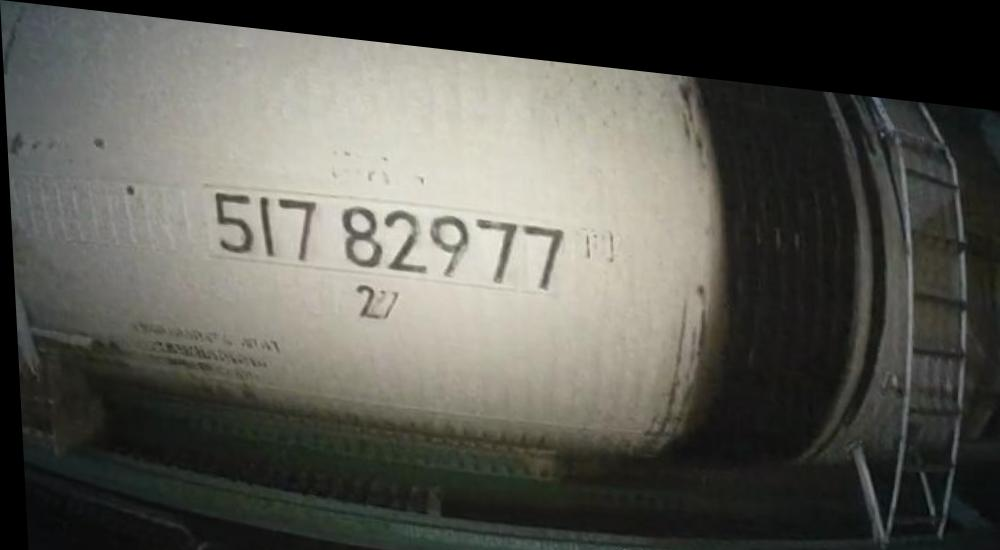Wagon-number: (207, 178, 567, 284)
